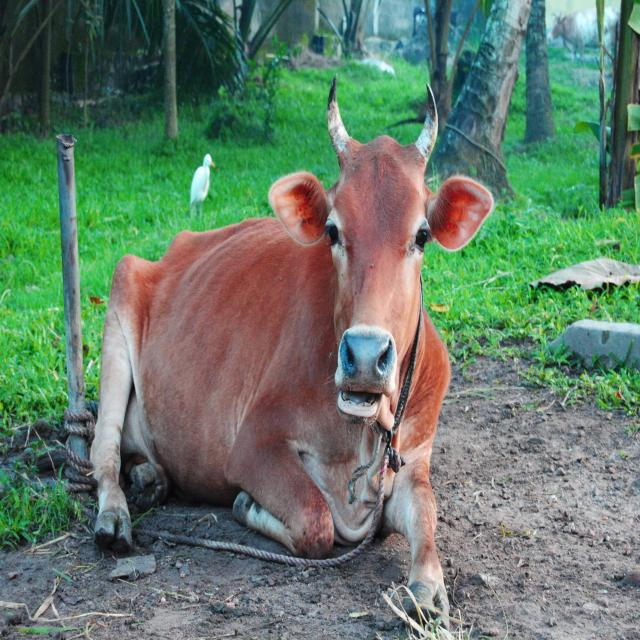cow: (90, 78, 494, 622)
